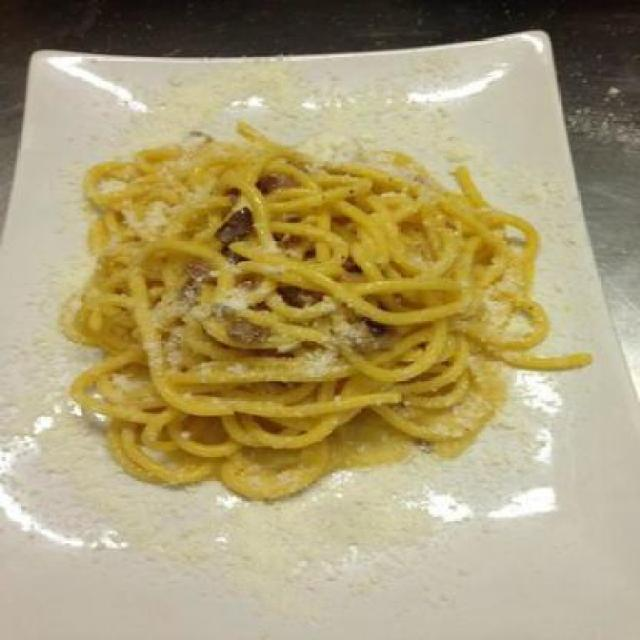Pasta with carbonara sauce: (48, 85, 568, 528)
